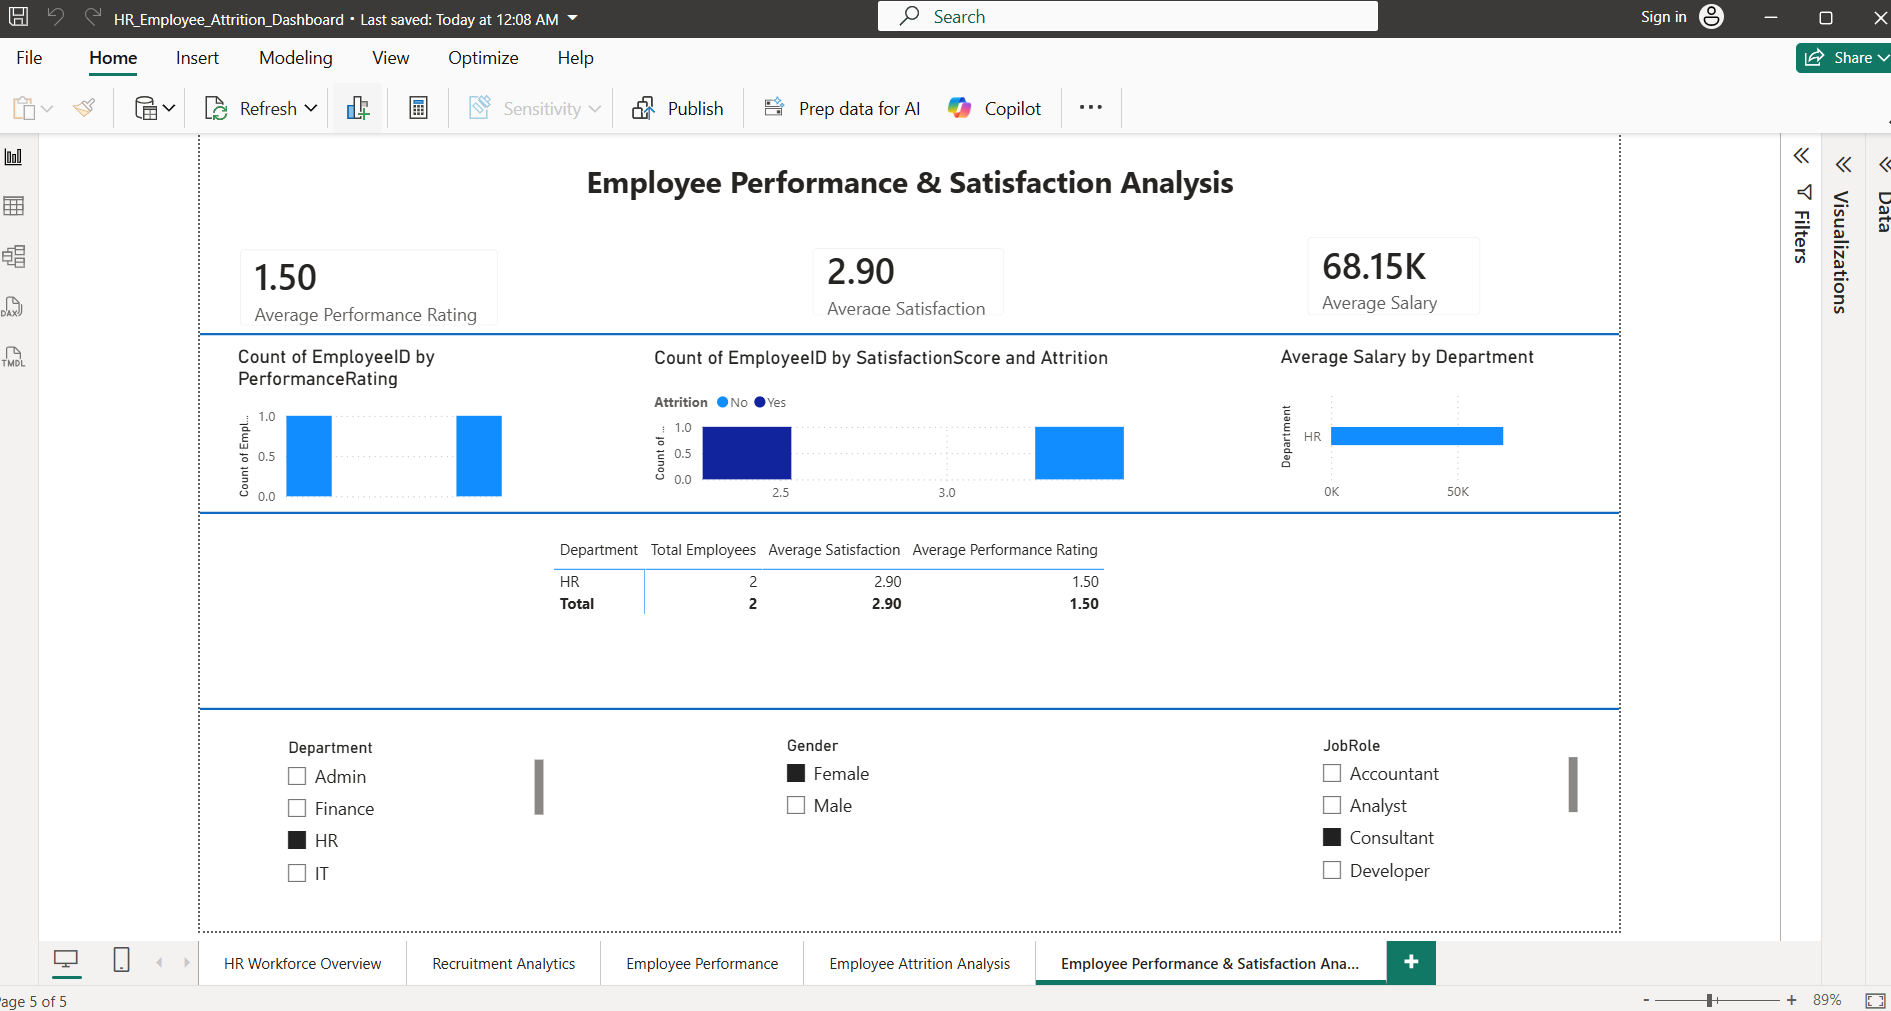

Layout of this report page (visuals, bound fields, positions):
{"tool":"powerbi","page":{"name":"Employee Performance & Satisfaction Analysis","canvas":[1280,720],"ordinal":4},"visuals":[{"type":"cardVisual","fields":{"Data":["Employees.Average Performance Rating"]},"box":[19.6,88,267.8,103.9],"z":0},{"type":"cardVisual","fields":{"Data":["Employees.Average Satisfaction"]},"box":[535.6,86.8,207.9,95.4],"z":1000},{"type":"cardVisual","fields":{"Data":["Employees.Average Salary"]},"box":[981.9,77,190.8,105.2],"z":2000},{"type":"clusteredColumnChart","fields":{"Category":["Employees.PerformanceRating"],"Y":["CountNonNull(Employees.EmployeeID)"]},"box":[29.3,192,248,150],"z":3000},{"type":"columnChart","fields":{"Category":["Employees.SatisfactionScore"],"Series":["Employees.Attrition"],"Y":["CountNonNull(Employees.EmployeeID)"]},"box":[404.8,193.2,433.6,149.6],"z":4000},{"type":"clusteredBarChart","fields":{"Category":["Employees.Department"],"Y":["Employees.Average Salary"]},"box":[969.7,192,248,150],"z":5000},{"type":"pivotTable","fields":{"Rows":["Employees.Department"],"Values":["Employees.Total Employees","Employees.Average Satisfaction","Employees.Average Performance Rating"]},"box":[314.3,359.5,524.6,149.2],"z":6000},{"type":"slicer","fields":{"Values":["Employees.Department"]},"box":[66,540.5,248,150],"z":7000},{"type":"slicer","fields":{"Values":["Employees.JobRole"]},"box":[1000.3,539.3,247,150],"z":8000},{"type":"slicer","fields":{"Values":["Employees.Gender"]},"box":[516,539.3,248,150],"z":9000},{"type":"textbox","box":[0,20.8,1280.3,48],"z":10000},{"type":"shape","box":[0,443.9,1280.3,150.4],"z":11000},{"type":"shape","box":[0,31.8,1280.3,299.6],"z":12000},{"type":"shape","box":[0,193.2,1280.3,299.6],"z":13000}]}

Visuals, with their boxes on the page's 1280x720 design canvas (x1, y1, x2, y2). These are canvas units, not pixel positions in the 1891x1011 screenshot, which may show the page scaled, cropped or inside an application window:
cardVisual - Employees.Average Performance Rating: <region>20, 88, 287, 192</region>
cardVisual - Employees.Average Satisfaction: <region>536, 87, 744, 182</region>
cardVisual - Employees.Average Salary: <region>982, 77, 1173, 182</region>
clusteredColumnChart - Employees.PerformanceRating x CountNonNull(Employees.EmployeeID): <region>29, 192, 277, 342</region>
columnChart - Employees.SatisfactionScore x Employees.Attrition: <region>405, 193, 838, 343</region>
clusteredBarChart - Employees.Department x Employees.Average Salary: <region>970, 192, 1218, 342</region>
pivotTable - Employees.Department x Employees.Total Employees: <region>314, 360, 839, 509</region>
slicer - Employees.Department: <region>66, 540, 314, 690</region>
slicer - Employees.JobRole: <region>1000, 539, 1247, 689</region>
slicer - Employees.Gender: <region>516, 539, 764, 689</region>
textbox: <region>0, 21, 1280, 69</region>
shape: <region>0, 444, 1280, 594</region>
shape: <region>0, 32, 1280, 331</region>
shape: <region>0, 193, 1280, 493</region>
